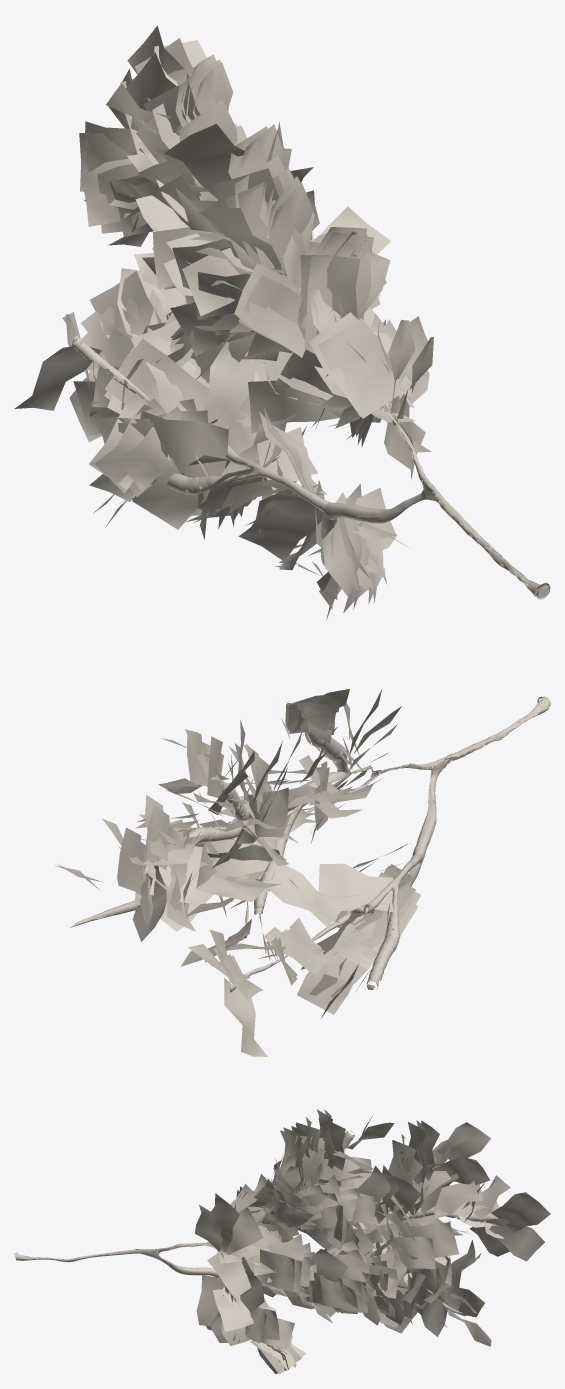
File: tree_cand00.glb
3 views of the same model, one above another, from view 1: azimuth 30°, elevation 25°; view 2: azimuth 150°, elevation 25°; view 3: azimuth 270°, elevation 25° (orthographic). The views are drawn at different scales.
Parts seen in each view (by area): view 1: world; view 2: world; view 3: world.
Boxes of the visible parts, x1=… form: world: x1=14, y1=25, x2=550, y2=620; world: x1=55, y1=689, x2=550, y2=1056; world: x1=14, y1=1109, x2=550, y2=1374.
Bounding box in the file's own units: 0.9149 × 1.07 × 1.94.
